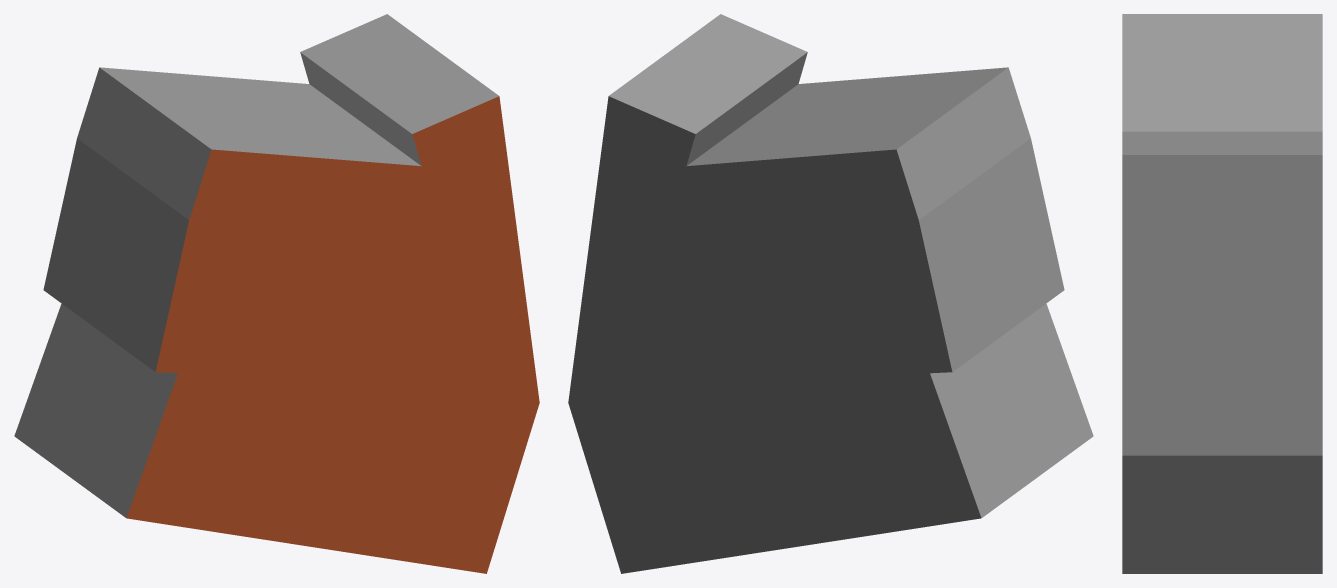
File: construction_4204_assumed_A_Casa_h6m.obj
3 views of the same model, side by side, from view 1: azimuth 30°, elevation 25°; view 2: azimuth 150°, elevation 25°; view 3: azimuth 270°, elevation 25° (orthographic). The views are drawn at different scales.
Visible parts, largest first — view 1: construction_4204_assumed_A_Casa; view 2: construction_4204_assumed_A_Casa; view 3: construction_4204_assumed_A_Casa.
Boxes of the visible parts, box(x1,y1,x2,y2) form: construction_4204_assumed_A_Casa: box(14, 14, 539, 573); construction_4204_assumed_A_Casa: box(568, 14, 1093, 573); construction_4204_assumed_A_Casa: box(1122, 14, 1322, 573).
Bounding box in the file's own units: 12.77 × 14.51 × 6.
